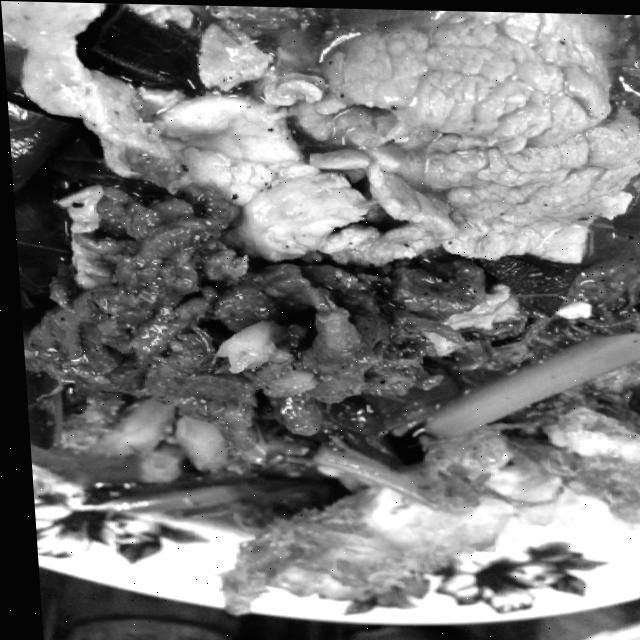面条主食: (2, 0, 640, 608)
